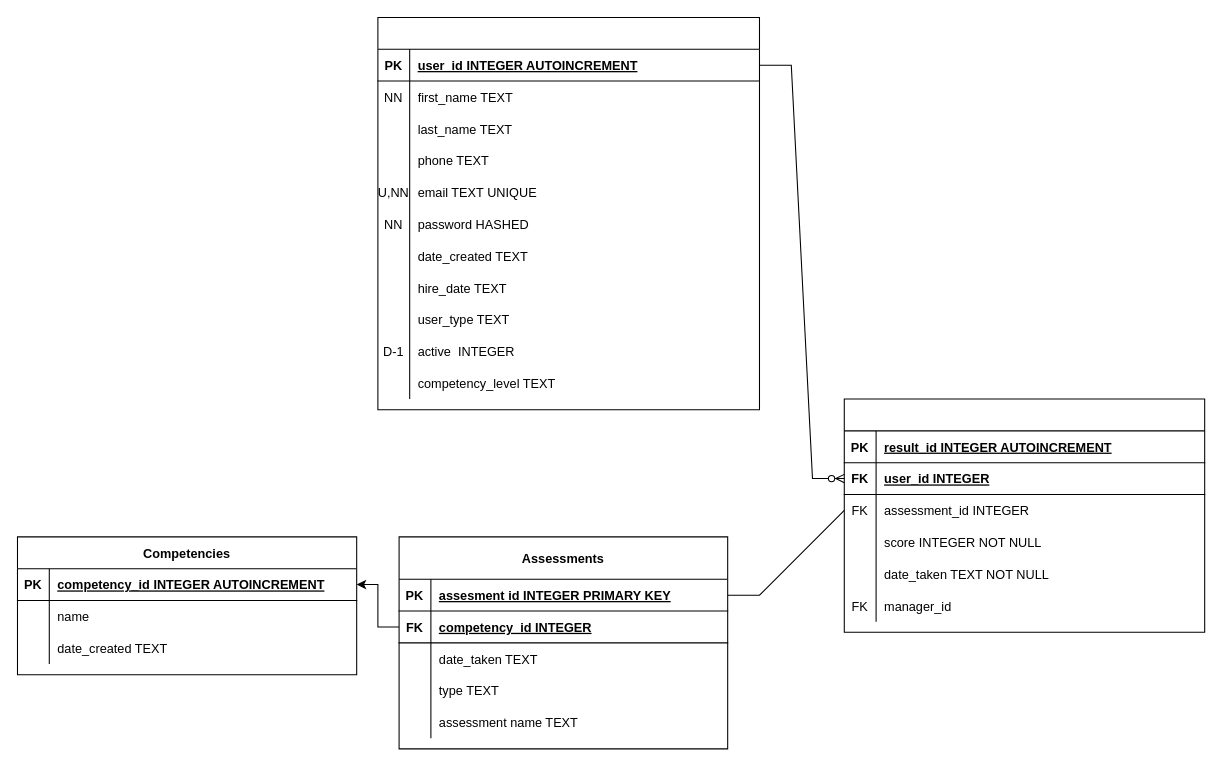
The diagram is 1222 pixels wide and 766 high, and some of its shapes have lost their labels. The box of each missing label's shape, as (x1, y1, x2, y2) in pixels:
Assessment_Results: (843, 398, 1205, 632)
Users: (377, 16, 759, 410)
